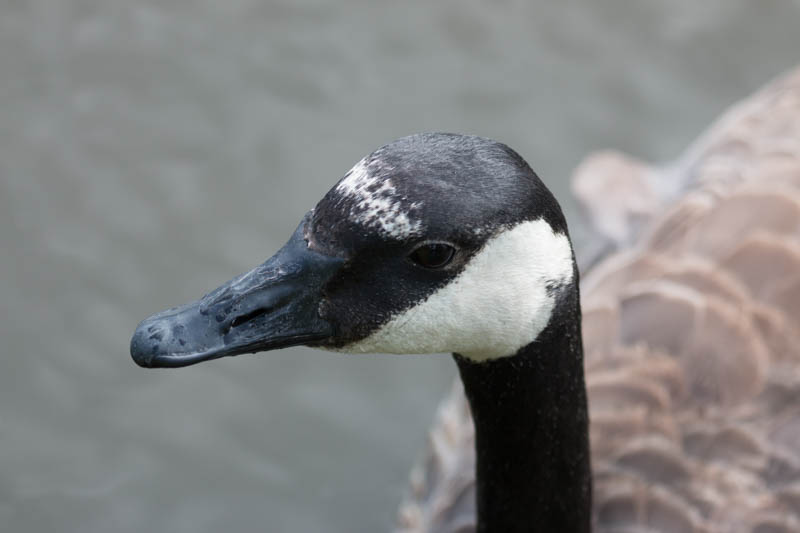goose-head: (128, 133, 581, 369)
